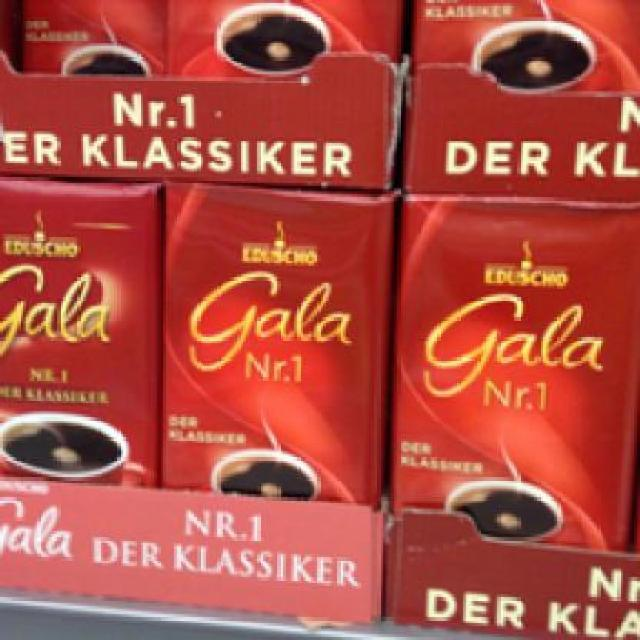Coffee: (388, 185, 628, 546), (154, 174, 394, 506), (0, 174, 155, 480)
